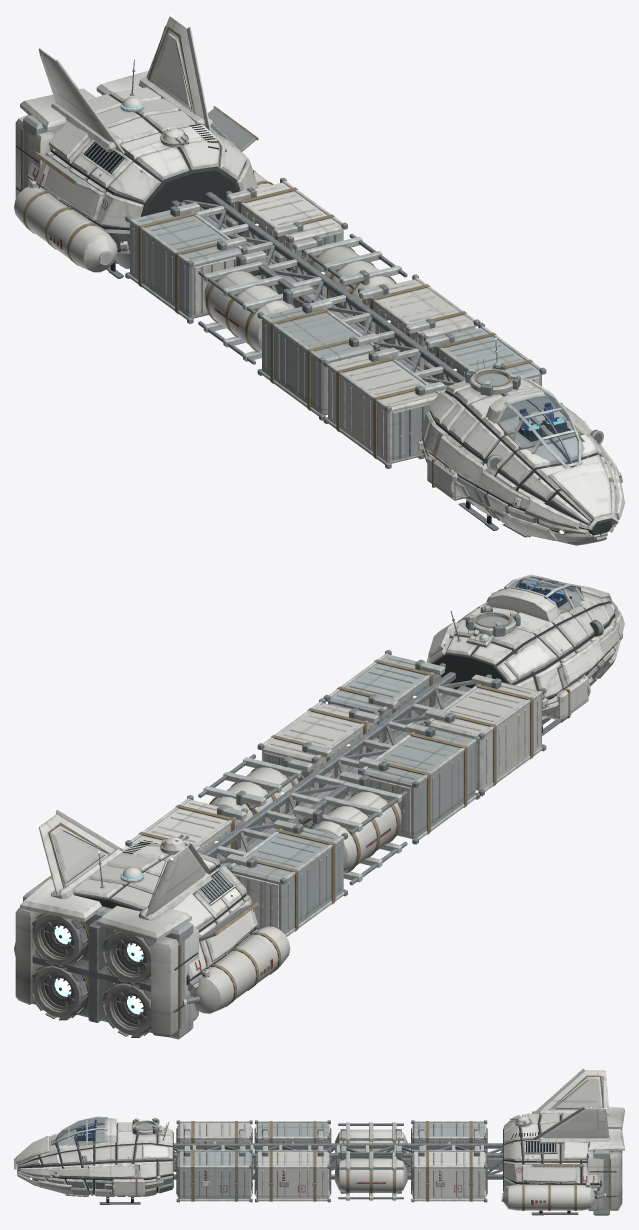
The model's file is mule_freighter.glb.
3 views of the same model, one above another, from view 1: azimuth 30°, elevation 25°; view 2: azimuth 150°, elevation 25°; view 3: azimuth 270°, elevation 25° (orthographic). The views are drawn at different scales.
Visible parts, largest first — view 1: mule_freighter_hull, mule_freighter_glass; view 2: mule_freighter_hull, mule_freighter_glass, mule_freighter_plasma; view 3: mule_freighter_hull, mule_freighter_glass.
Boxes of the visible parts, <box> form: mule_freighter_hull: <box>14,14,624,545</box>; mule_freighter_glass: <box>499,394,584,467</box>; mule_freighter_hull: <box>14,574,624,1039</box>; mule_freighter_glass: <box>506,576,584,612</box>; mule_freighter_plasma: <box>54,925,143,1014</box>; mule_freighter_hull: <box>14,1068,624,1215</box>; mule_freighter_glass: <box>53,1117,107,1147</box>.
Bounding box in the file's own units: 10.54 × 9.17 × 44.54.
Materials: 3 (1 with a texture image).
